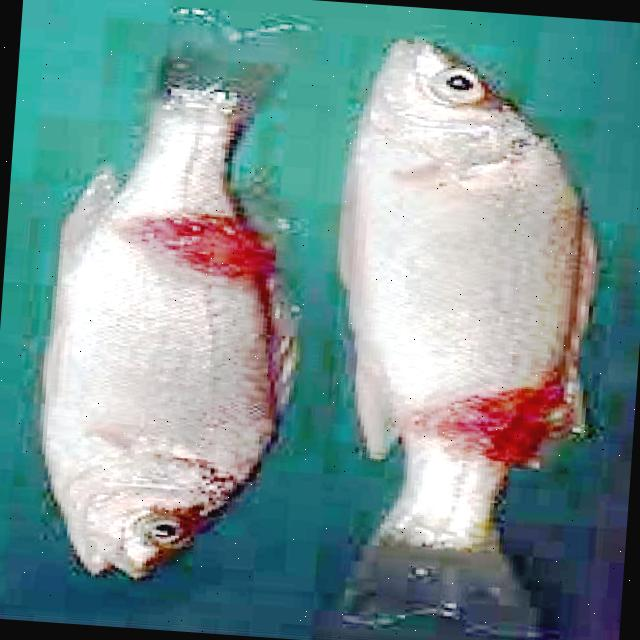Epizootic Ulcerative Syndrome -EUS-: (341, 41, 593, 636), (45, 55, 294, 577)
